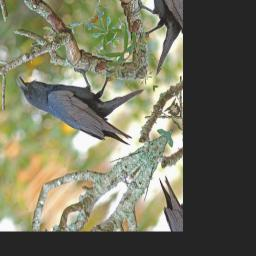Crow: (12, 10, 163, 183)
